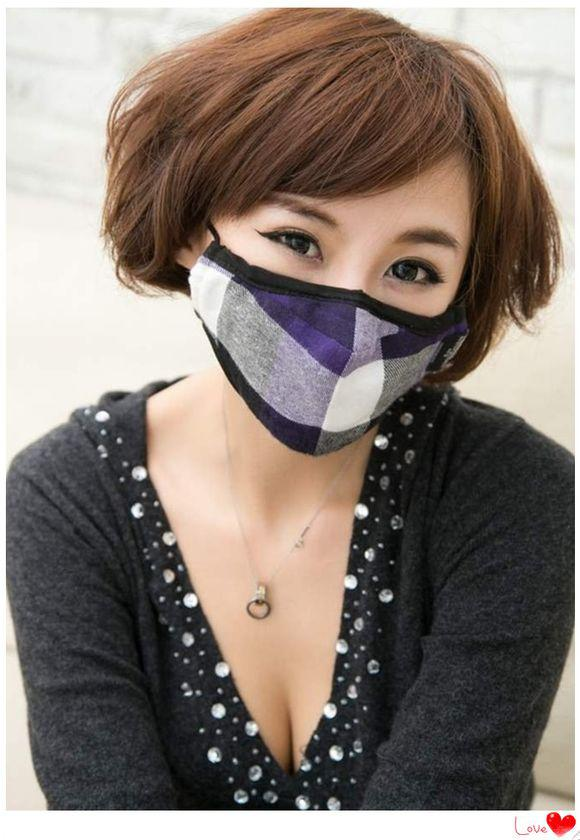OK: (192, 185, 449, 448)
